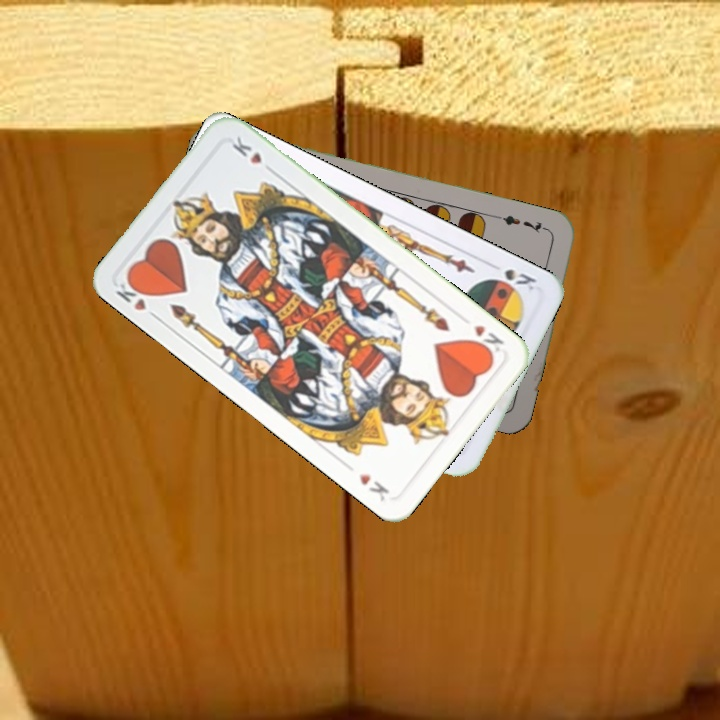E7: (495, 211, 553, 236)
HK: (111, 274, 162, 323), (467, 321, 507, 359)
SK: (484, 264, 539, 295)
